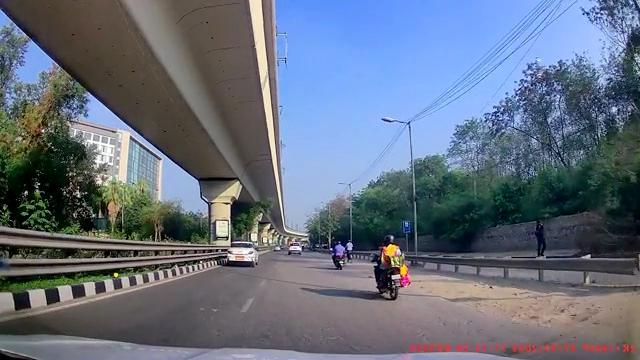motorcycle_with_helmet: (371, 233, 409, 301)
